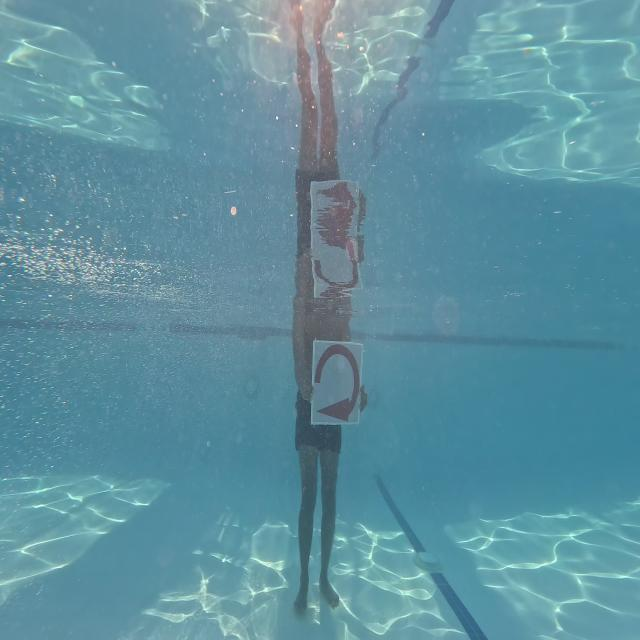red_side: (309, 336, 361, 425)
